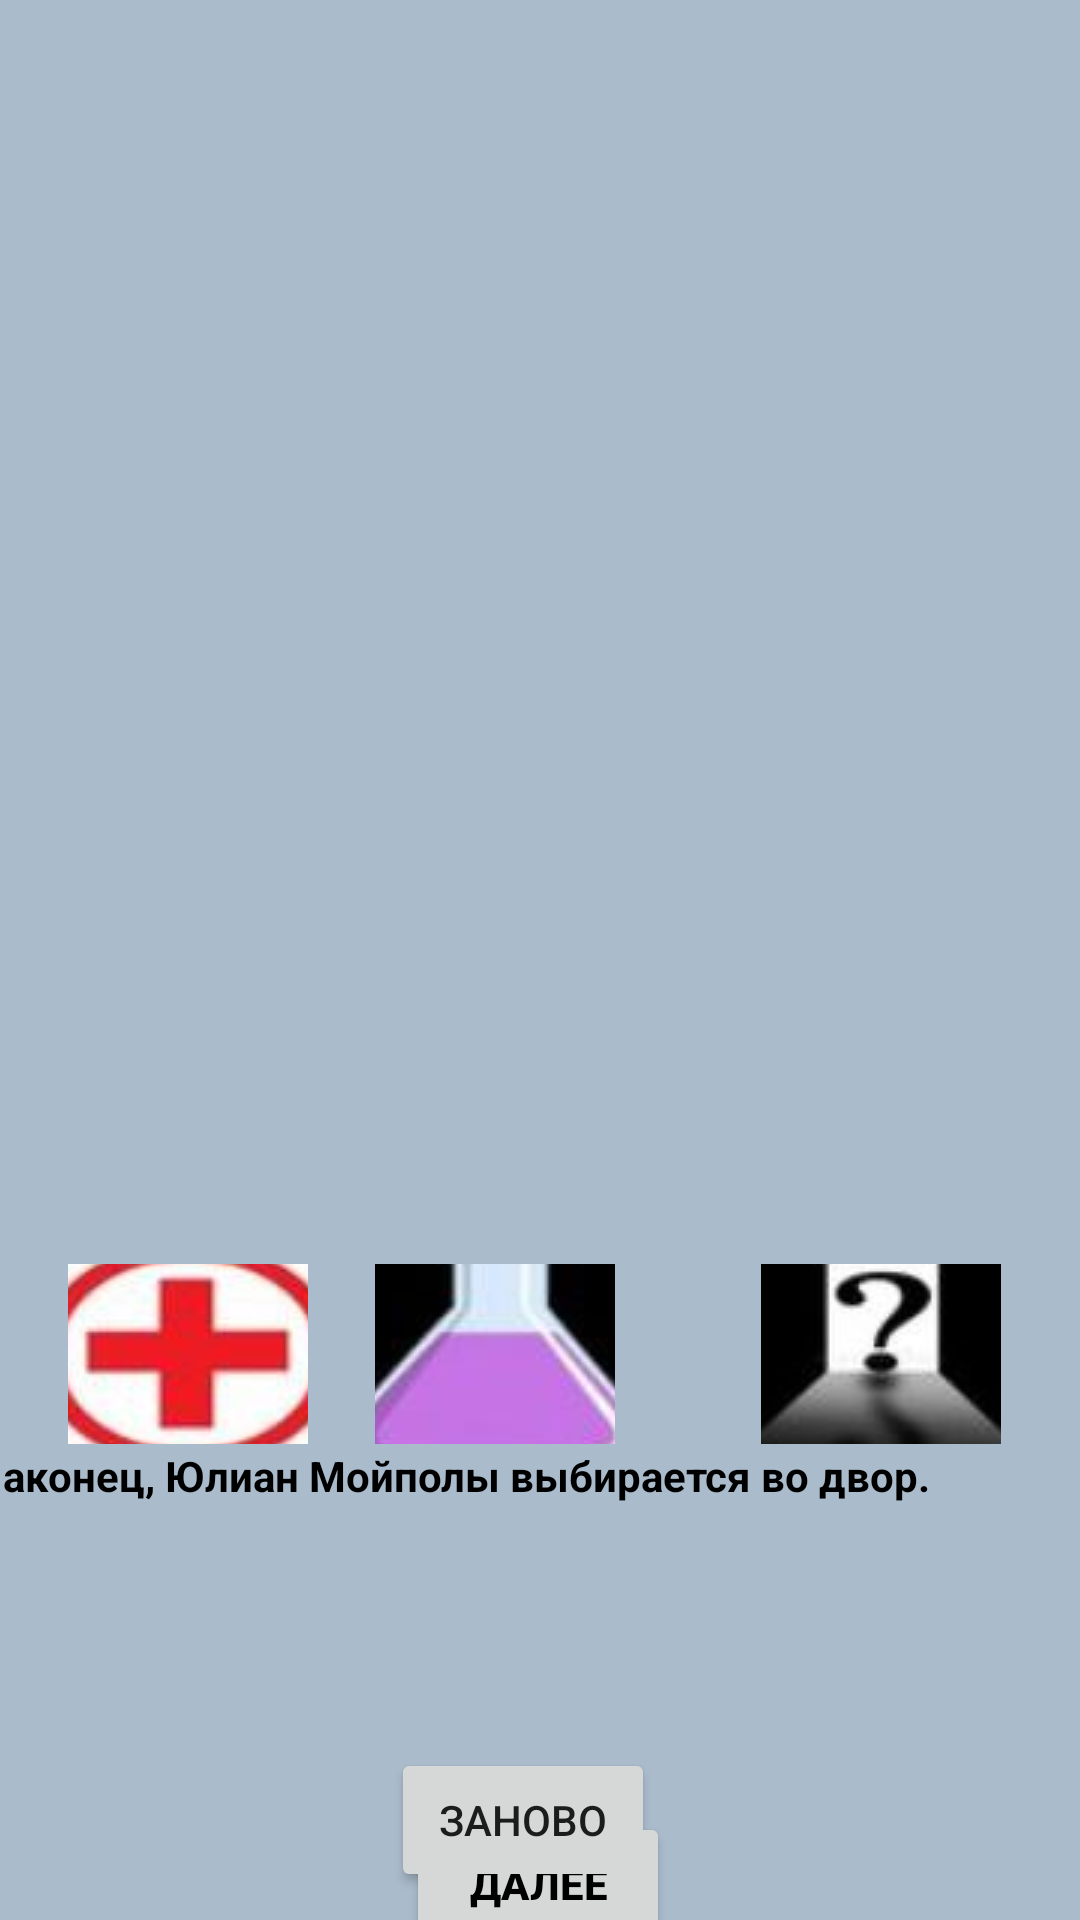

Icons on this 1080 × 1920 Android screen, each with its box as (x1, y1, x2, y2):
kolba: (375, 1264, 615, 1444)
plus: (68, 1264, 308, 1444)
secret: (761, 1264, 1001, 1444)
